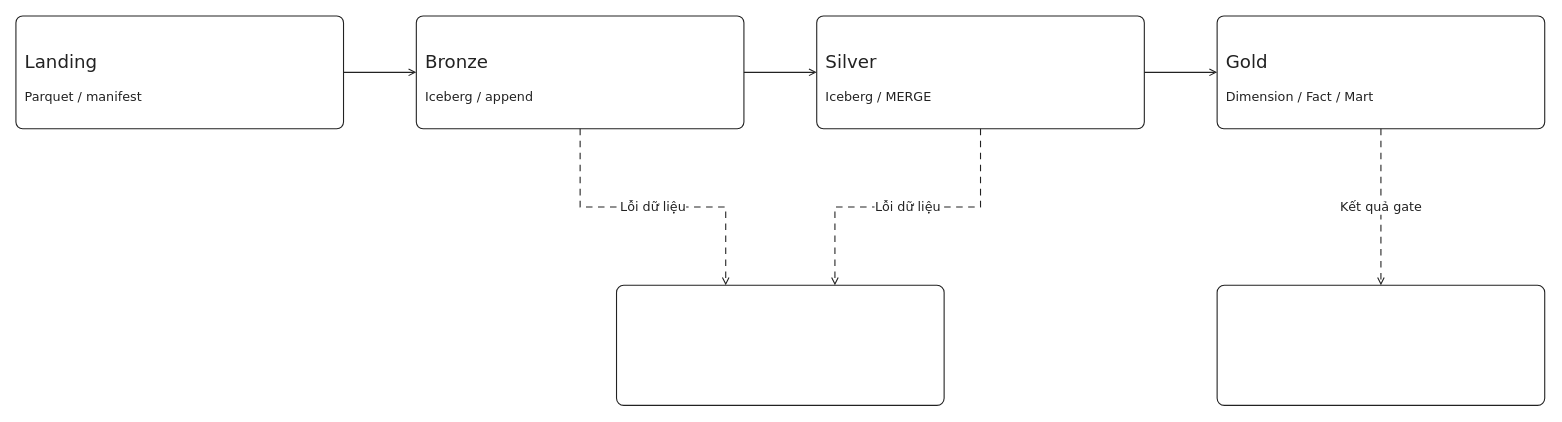
This 1562x422 diagram has some shape labels left out. Each missing label, with the centre of its shape:
"Quarantine" belongs at [780,344].
"system.data_quality_results" belongs at [1380,344].
